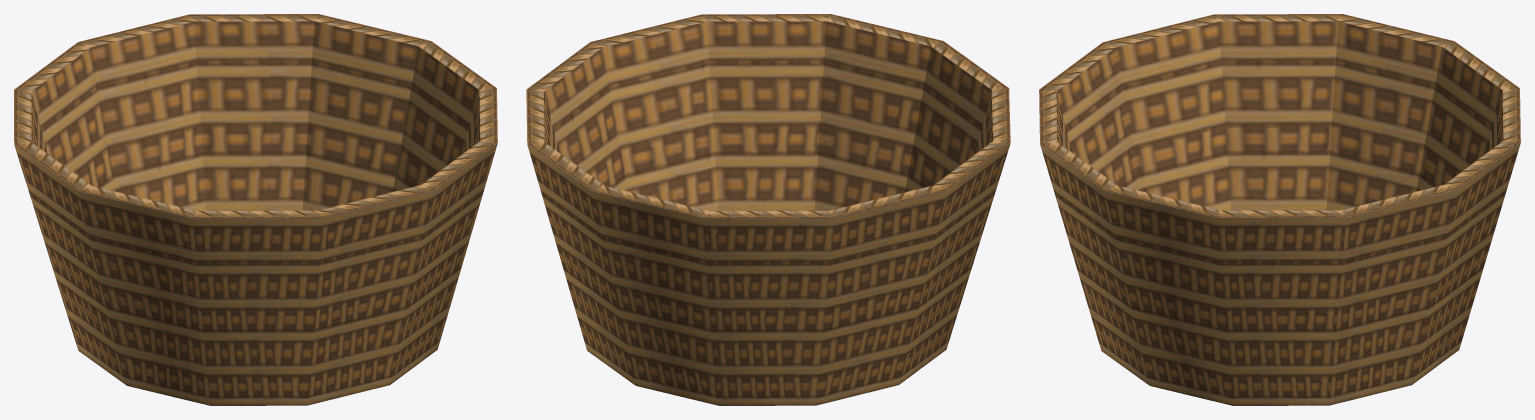
File: Basket_A_01.fbx
3 views of the same model, side by side, from view 1: azimuth 30°, elevation 25°; view 2: azimuth 150°, elevation 25°; view 3: azimuth 270°, elevation 25° (orthographic).
Parts seen in each view (by area): view 1: Basket_A_01; view 2: Basket_A_01; view 3: Basket_A_01.
Boxes of the visible parts, x1,y1,x2,y2 form: Basket_A_01: (14, 14, 497, 405); Basket_A_01: (526, 14, 1010, 405); Basket_A_01: (1039, 14, 1520, 405).
Size of the model in its own units: 86.63 by 42.23 by 86.48.
1 material, 1 textured.
